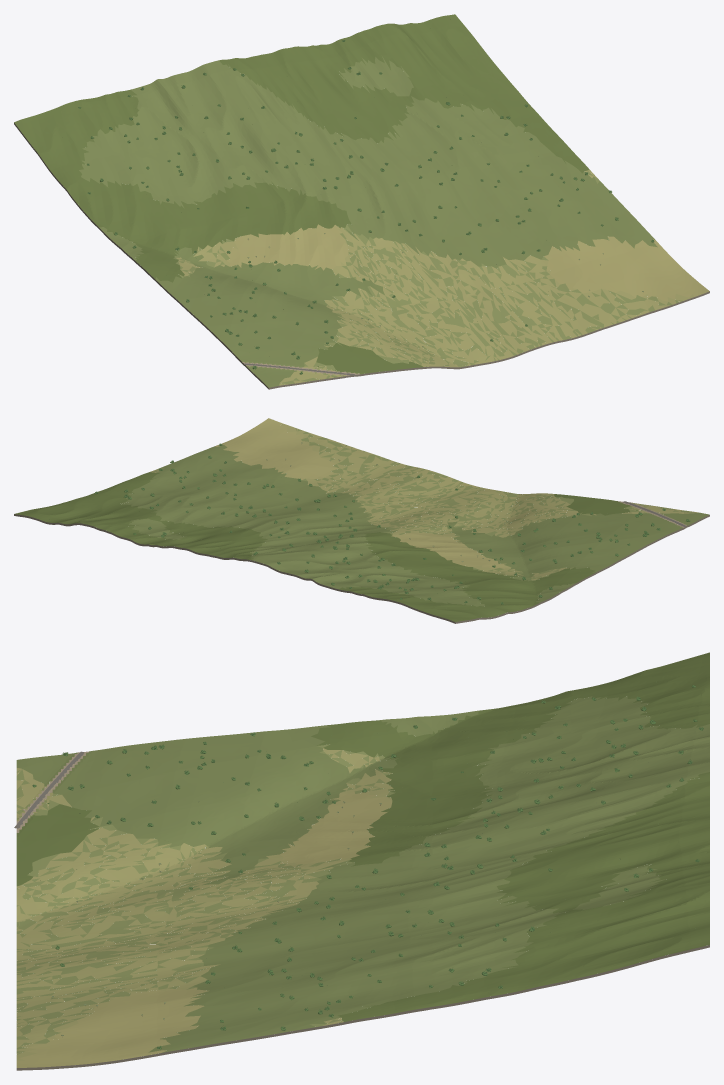
The model's file is parca_+5_-9-yakin.glb.
3 renders of one model, top to bottom at view 1: azimuth 30°, elevation 25°; view 2: azimuth 150°, elevation 25°; view 3: azimuth 270°, elevation 25°, orthographic. The views are drawn at different scales.
Visible parts, largest first — view 1: parca_+5_-9_arazi, parca_+5_-9_bitkiler; view 2: parca_+5_-9_arazi, parca_+5_-9_bitkiler; view 3: parca_+5_-9_arazi, parca_+5_-9_bitkiler.
Part boxes in pixels (x1=…): parca_+5_-9_arazi: x1=14, y1=14, x2=709, y2=389; parca_+5_-9_bitkiler: x1=78, y1=19, x2=654, y2=374; parca_+5_-9_arazi: x1=14, y1=418, x2=709, y2=623; parca_+5_-9_bitkiler: x1=49, y1=442, x2=690, y2=608; parca_+5_-9_arazi: x1=16, y1=652, x2=709, y2=1070; parca_+5_-9_bitkiler: x1=32, y1=685, x2=703, y2=1049.
Bounding box in the file's own units: 1002 × 263 × 1004.
